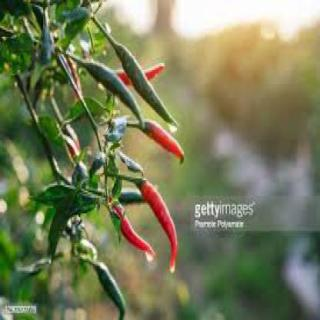green_chilli: (110, 40, 180, 124), (82, 56, 146, 131), (94, 264, 126, 318)
